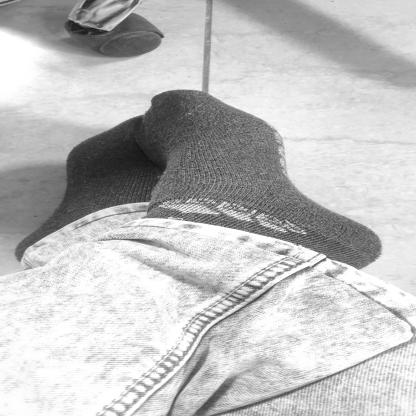ankle: (248, 218, 264, 224)
heel: (361, 252, 374, 258)
left_foot: (135, 91, 383, 272)
pinky: (139, 138, 146, 141)
toe: (196, 97, 205, 103)
